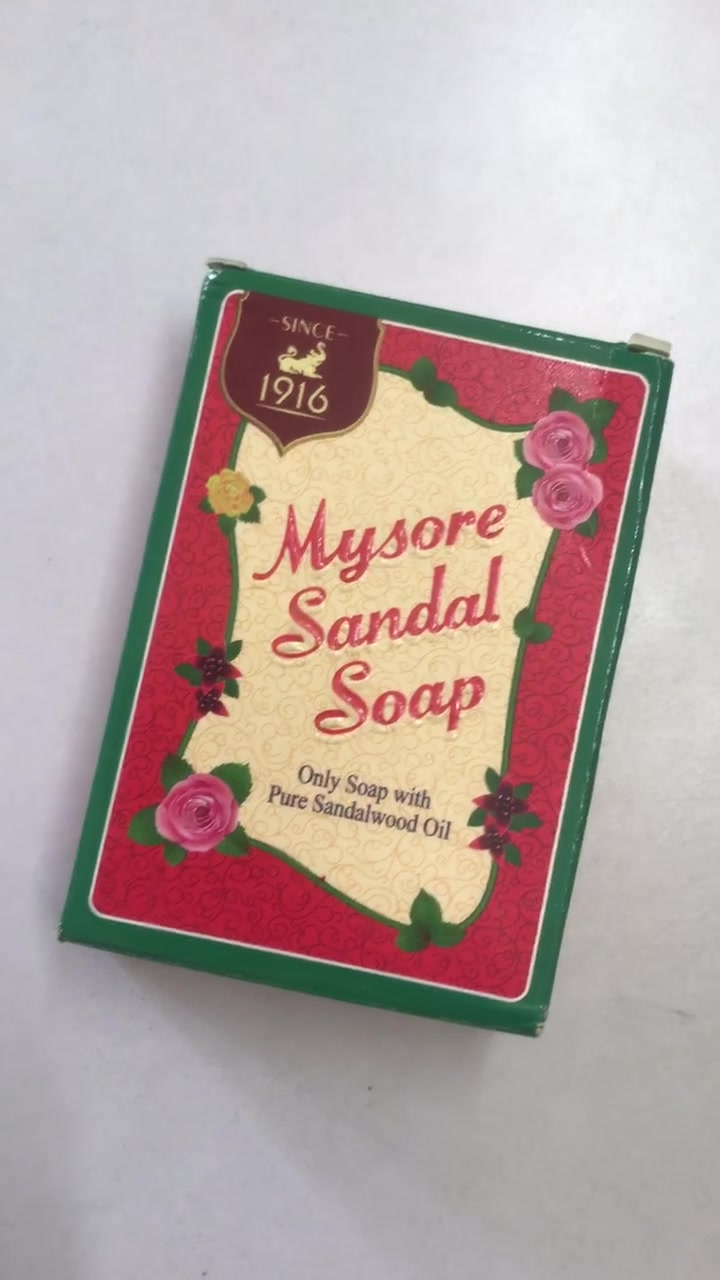mysore sandal soap: (53, 267, 660, 1039)
